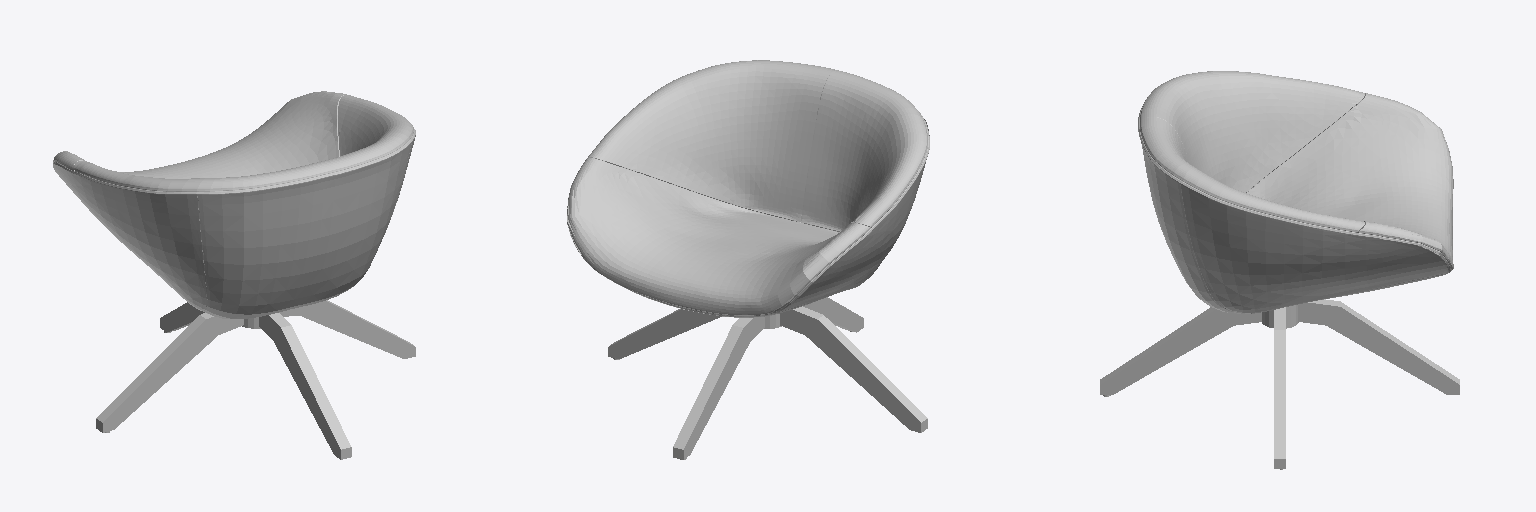
File: cush.obj
3 views of the same model, side by side, from view 1: azimuth 30°, elevation 25°; view 2: azimuth 150°, elevation 25°; view 3: azimuth 270°, elevation 25° (orthographic).
Parts seen in each view (by area): view 1: MART.003, MART.008, MART.004, pCube1, MART.006, MART.007; view 2: MART.008, MART.004, MART.003, MART.007, MART.006, pCube1; view 3: MART.008, MART.003, MART.007, pCube1, MART.006.
Boxes of the visible parts, <box> form: MART.003: <box>53,135,415,318</box>; MART.008: <box>53,91,415,194</box>; MART.004: <box>96,313,243,432</box>; pCube1: <box>259,313,351,459</box>; MART.006: <box>279,300,415,358</box>; MART.007: <box>160,302,204,332</box>; MART.008: <box>567,60,929,316</box>; MART.004: <box>780,306,927,432</box>; MART.003: <box>569,119,929,317</box>; MART.007: <box>673,317,764,459</box>; MART.006: <box>608,309,721,358</box>; pCube1: <box>803,297,863,332</box>; MART.008: <box>1138,71,1453,272</box>; MART.003: <box>1141,100,1448,313</box>; MART.007: <box>1298,299,1459,394</box>; pCube1: <box>1100,307,1261,394</box>; MART.006: <box>1274,307,1285,468</box>.
Size of the model in its own units: 14.33 by 12.12 by 14.3.